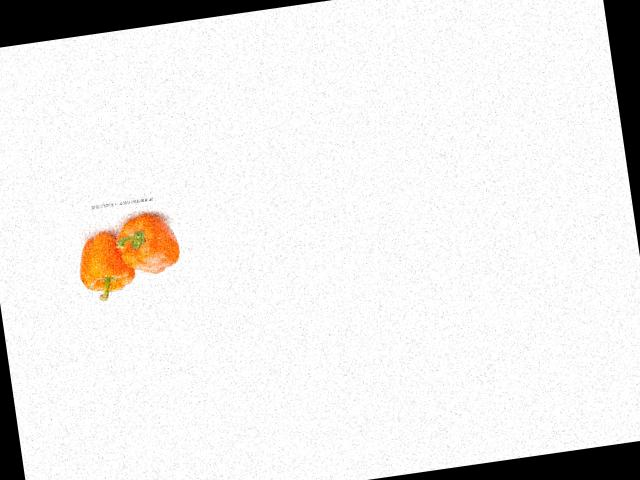bell_pepper: (109, 204, 184, 280)
